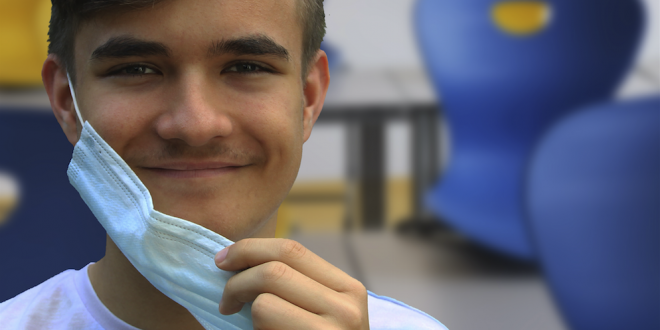with_incorrect_mask: (80, 8, 278, 236)
